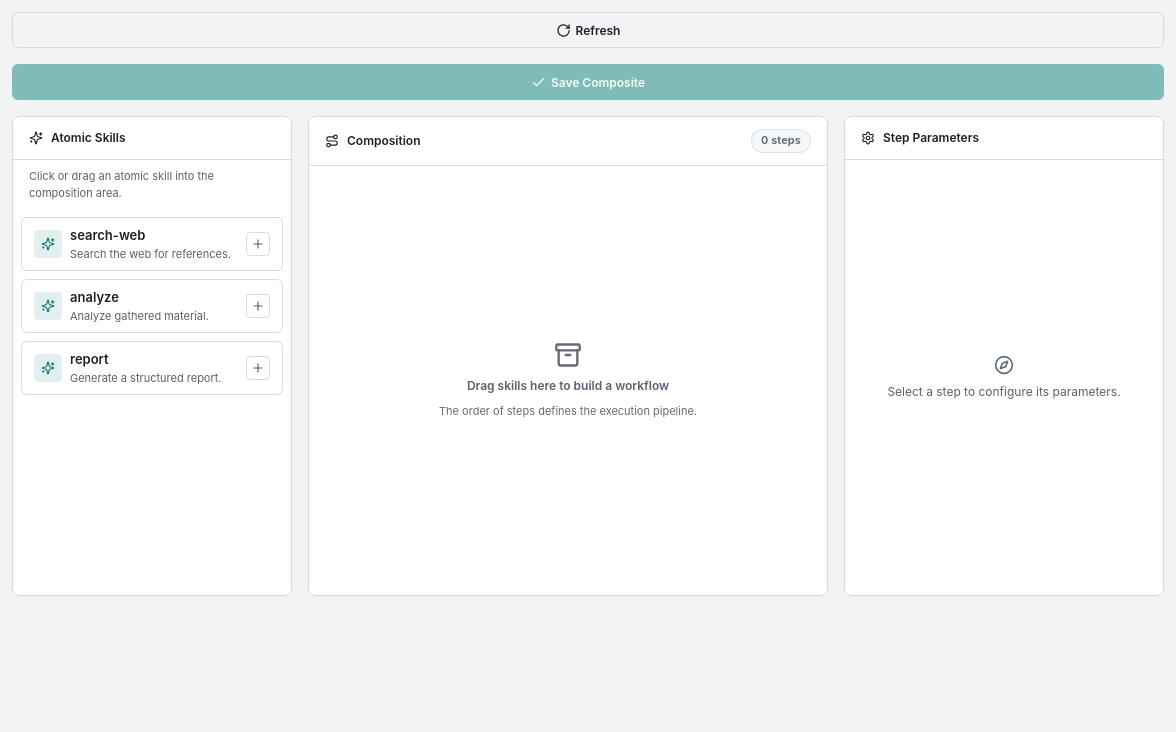
Test: SkillEditor.vue › removes a step when the remove button is clicked
What coordinates should you click on to do the following:
click the list item with class "atom-card" that starts with "search-web"
I would click on:
 (152, 244)
Its box is x1=21 y1=217 x2=283 y2=271.
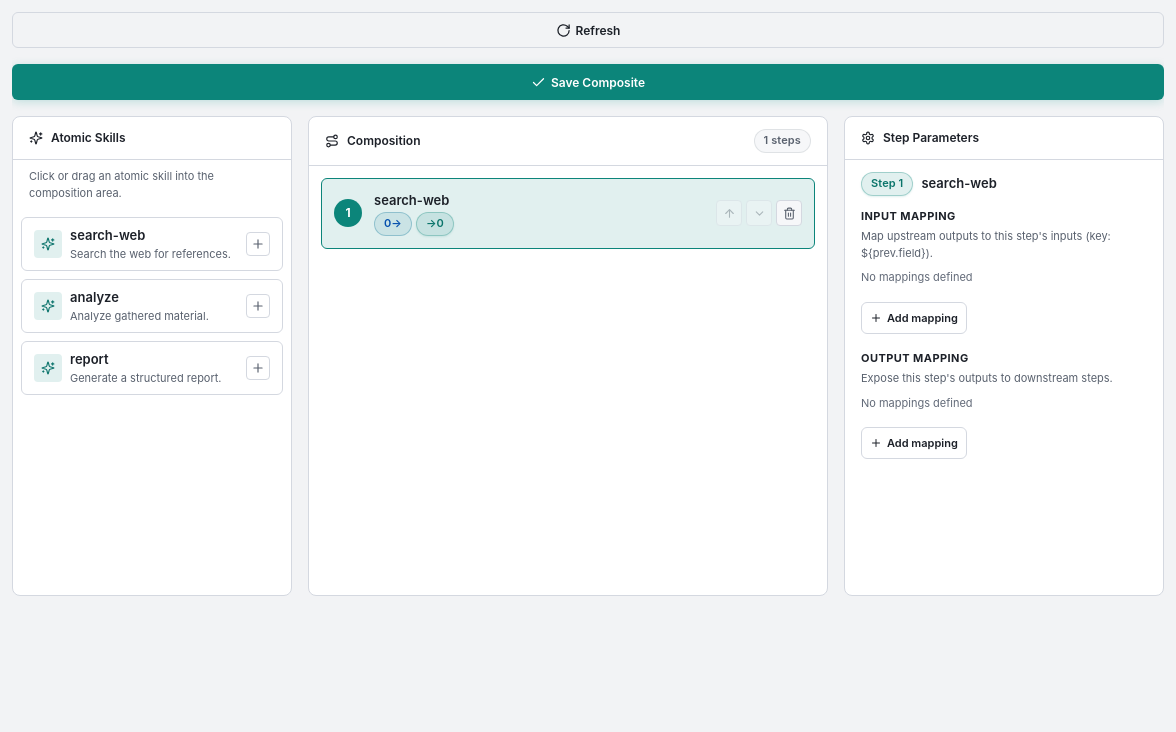
What coordinates should you click on to do the following:
click the list item with class "atom-card" that starts with "analyze"
I would click on:
 (152, 306)
Its box is x1=21 y1=279 x2=283 y2=333.
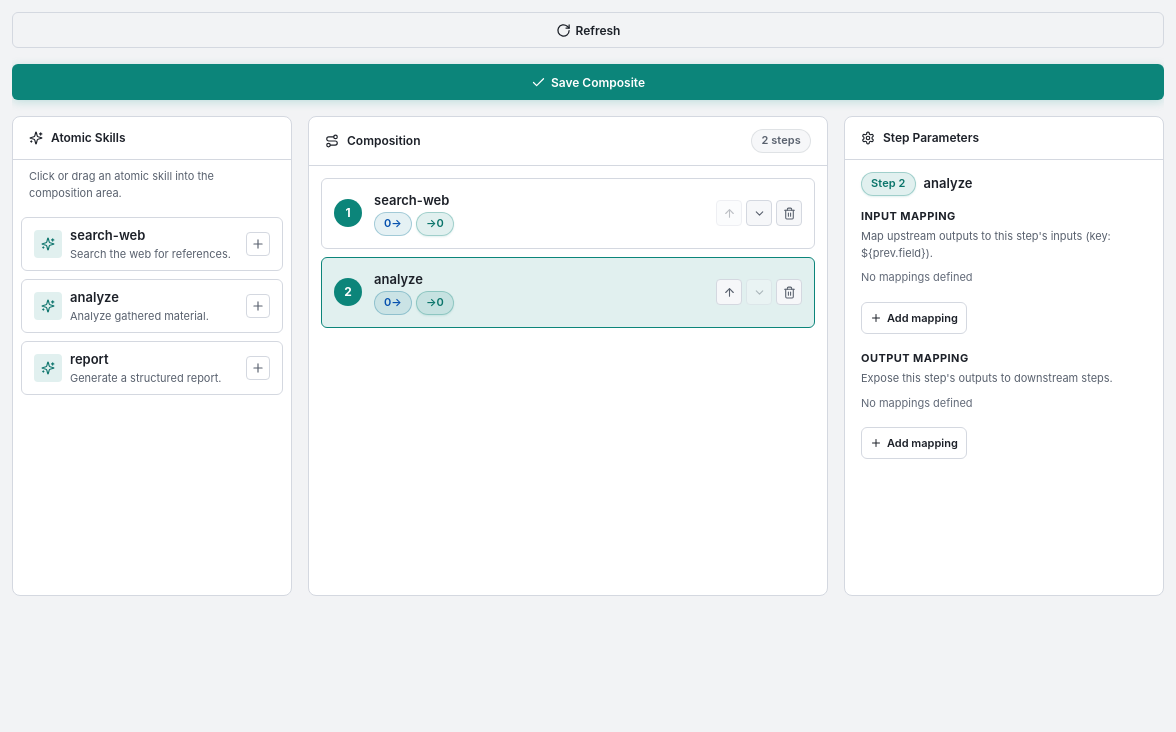
expect the number of list items with class "step-item" is 2: met, box x1=321 y1=178 x2=815 y2=249; x1=321 y1=257 x2=815 y2=328
remove button is the third btn-icon (danger)
What coordinates should you click on to do the following:
click the 1st button with class "btn-icon--danger"
I would click on:
 (789, 213)
Its box is x1=776 y1=200 x2=802 y2=226.
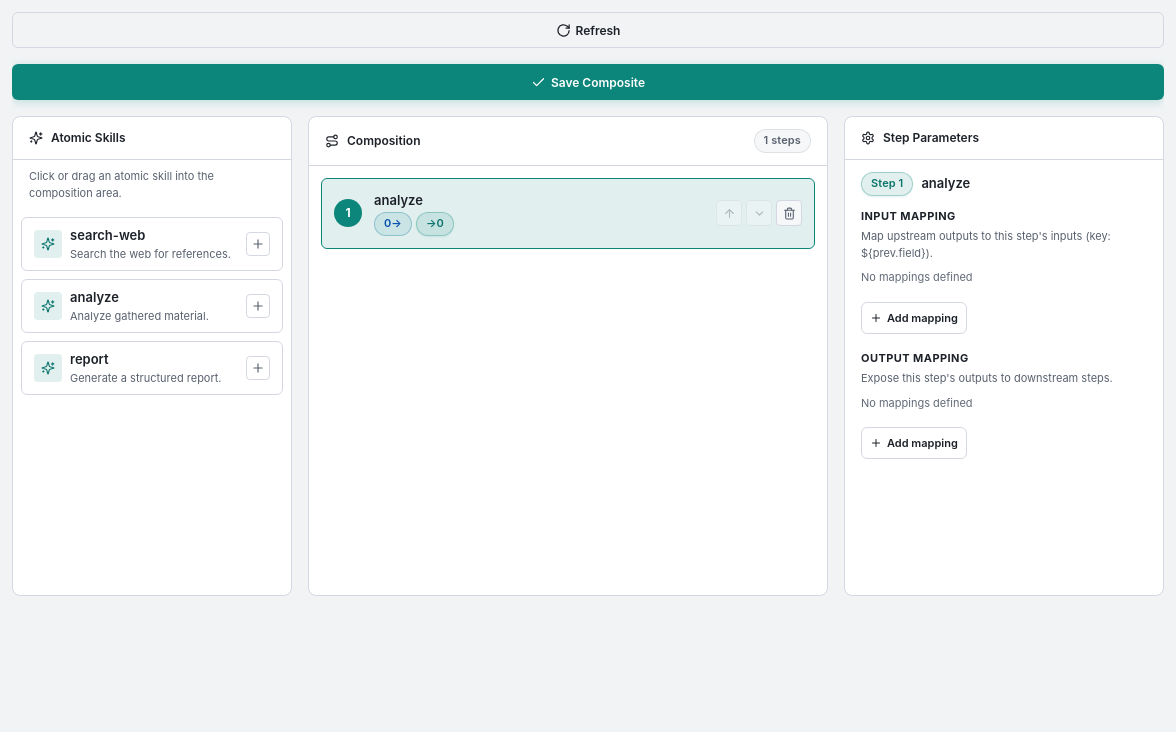
expect the text "analyze" is shown: met, box x1=70 y1=289 x2=119 y2=305
expect the number of list items with class "step-item" is 1: met, box x1=321 y1=178 x2=815 y2=249
